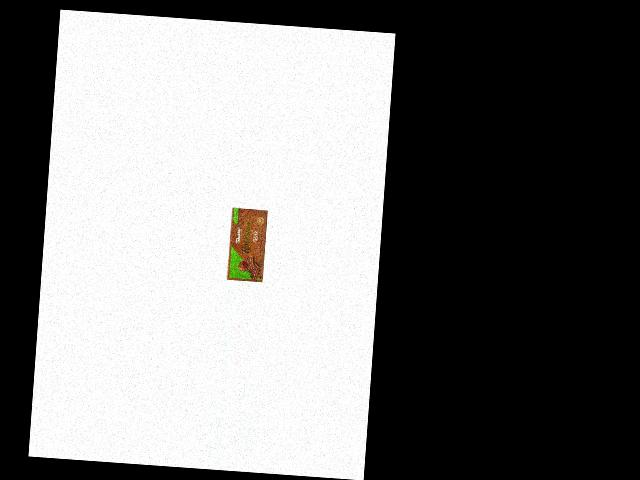chocolate: (224, 205, 269, 283)
